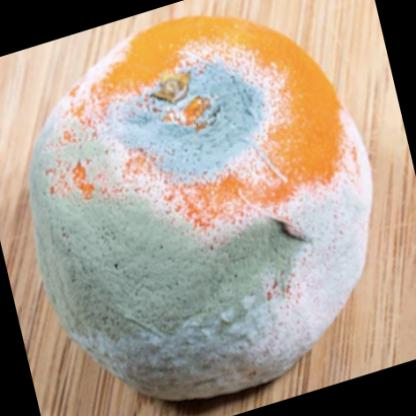rotten: (33, 19, 375, 401)
